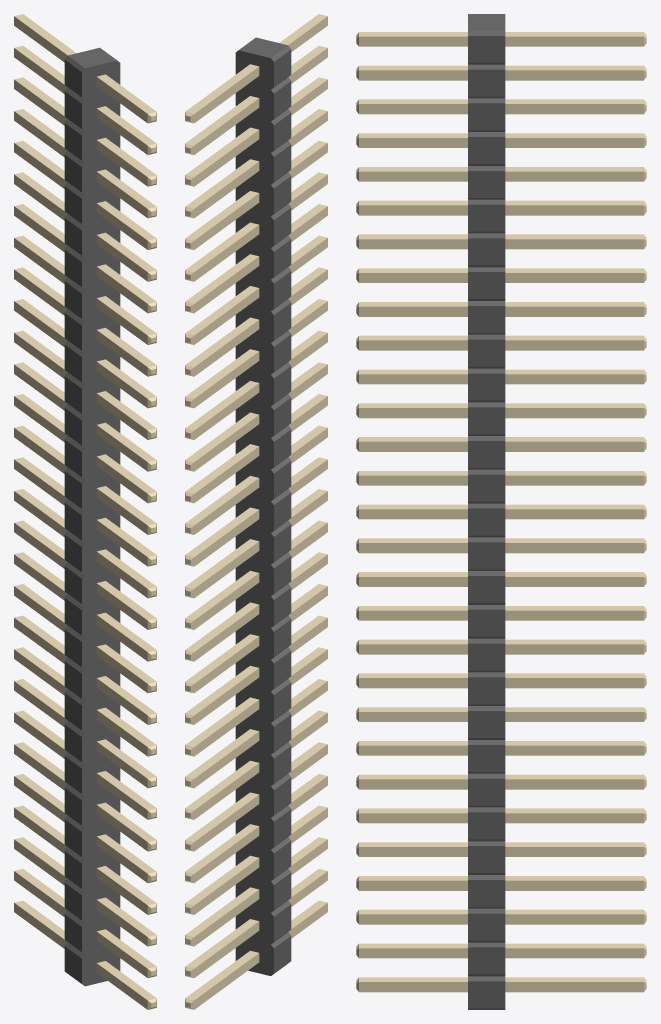
The model's file is PinHeader_1x29_P1.00mm_Vertical.glb.
The picture shows the model from 3 angles, left to right: view 1: azimuth 30°, elevation 25°; view 2: azimuth 150°, elevation 25°; view 3: azimuth 270°, elevation 25°; orthographic projection. The views are drawn at different scales.
Parts seen in each view (by area): view 1: Shape_IndexedFaceSet.003, Shape_IndexedFaceSet.001, Shape_IndexedFaceSet.190, Shape_IndexedFaceSet.281, Shape_IndexedFaceSet.350, Shape_IndexedFaceSet.234, Shape_IndexedFaceSet.397, Shape_IndexedFaceSet.306, Shape_IndexedFaceSet.182, Shape_IndexedFaceSet.195, Shape_IndexedFaceSet.199, Shape_IndexedFaceSet.229 (+135 smaller); view 2: Shape_IndexedFaceSet.004, Shape_IndexedFaceSet.350, Shape_IndexedFaceSet.306, Shape_IndexedFaceSet.397, Shape_IndexedFaceSet.298, Shape_IndexedFaceSet.311, Shape_IndexedFaceSet.315, Shape_IndexedFaceSet.403, Shape_IndexedFaceSet.330, Shape_IndexedFaceSet.337, Shape_IndexedFaceSet.345, Shape_IndexedFaceSet.358 (+107 smaller); view 3: Shape_IndexedFaceSet.300, Shape_IndexedFaceSet.304, Shape_IndexedFaceSet.308, Shape_IndexedFaceSet.317, Shape_IndexedFaceSet.319, Shape_IndexedFaceSet.324, Shape_IndexedFaceSet.329, Shape_IndexedFaceSet.332, Shape_IndexedFaceSet.339, Shape_IndexedFaceSet.343, Shape_IndexedFaceSet.348, Shape_IndexedFaceSet.352 (+115 smaller).
Part boxes in pixels (box(x1,y1,x2,y2)): Shape_IndexedFaceSet.003: box(82, 60, 120, 986); Shape_IndexedFaceSet.001: box(68, 47, 116, 68); Shape_IndexedFaceSet.190: box(96, 235, 147, 281); Shape_IndexedFaceSet.281: box(96, 868, 147, 914); Shape_IndexedFaceSet.350: box(14, 491, 67, 537); Shape_IndexedFaceSet.234: box(96, 552, 147, 597); Shape_IndexedFaceSet.397: box(14, 808, 67, 853); Shape_IndexedFaceSet.306: box(14, 174, 66, 220); Shape_IndexedFaceSet.182: box(96, 203, 147, 249); Shape_IndexedFaceSet.195: box(96, 298, 147, 344); Shape_IndexedFaceSet.199: box(96, 393, 147, 439); Shape_IndexedFaceSet.229: box(96, 488, 147, 534); Shape_IndexedFaceSet.004: box(235, 50, 273, 975); Shape_IndexedFaceSet.350: box(194, 541, 259, 597); Shape_IndexedFaceSet.306: box(194, 225, 259, 281); Shape_IndexedFaceSet.397: box(194, 858, 259, 914); Shape_IndexedFaceSet.298: box(194, 193, 259, 249); Shape_IndexedFaceSet.311: box(194, 288, 259, 344); Shape_IndexedFaceSet.315: box(194, 383, 259, 439); Shape_IndexedFaceSet.403: box(194, 921, 259, 977); Shape_IndexedFaceSet.330: box(194, 636, 259, 692); Shape_IndexedFaceSet.337: box(194, 573, 259, 629); Shape_IndexedFaceSet.345: box(194, 478, 259, 534); Shape_IndexedFaceSet.358: box(194, 446, 259, 502); Shape_IndexedFaceSet.300: box(505, 171, 643, 181); Shape_IndexedFaceSet.304: box(505, 239, 643, 249); Shape_IndexedFaceSet.308: box(505, 205, 643, 215); Shape_IndexedFaceSet.317: box(505, 374, 643, 384); Shape_IndexedFaceSet.319: box(505, 340, 643, 350); Shape_IndexedFaceSet.324: box(505, 306, 643, 316); Shape_IndexedFaceSet.329: box(505, 678, 643, 688); Shape_IndexedFaceSet.332: box(505, 644, 643, 654); Shape_IndexedFaceSet.339: box(505, 610, 643, 620); Shape_IndexedFaceSet.343: box(505, 475, 643, 485); Shape_IndexedFaceSet.348: box(505, 509, 643, 519); Shape_IndexedFaceSet.352: box(505, 543, 643, 553).
Size of the model in its own units: 0.5 by 11.42 by 3.07.
